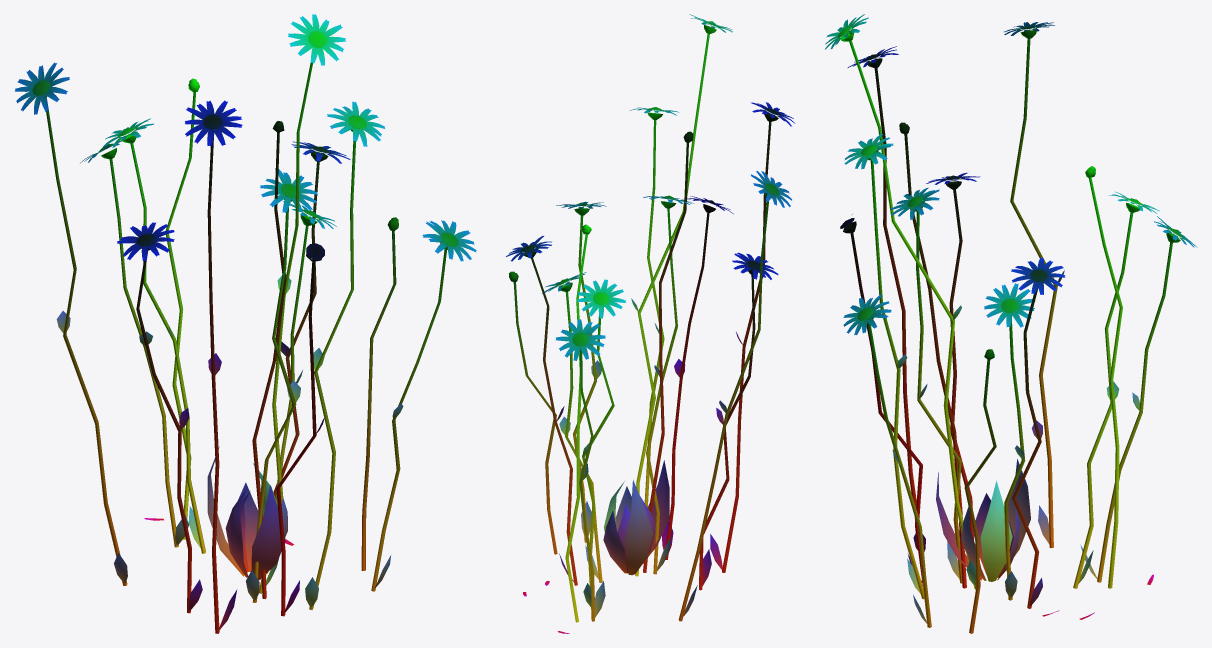
Rendered from SM_Flower_Daisy_C_LOD1.fbx.
3 views of the same model, side by side, from view 1: azimuth 30°, elevation 25°; view 2: azimuth 150°, elevation 25°; view 3: azimuth 270°, elevation 25° (orthographic). The views are drawn at different scales.
Visible parts, largest first — view 1: SM_Flower_Daisy_C_LOD1; view 2: SM_Flower_Daisy_C_LOD1; view 3: SM_Flower_Daisy_C_LOD1.
Boxes of the visible parts, x1,y1,x2,y2 form: SM_Flower_Daisy_C_LOD1: (15,14,476,633); SM_Flower_Daisy_C_LOD1: (506,14,795,633); SM_Flower_Daisy_C_LOD1: (825,14,1197,633).
Size of the model in its own units: 0.378 by 0.6191 by 0.3713.
